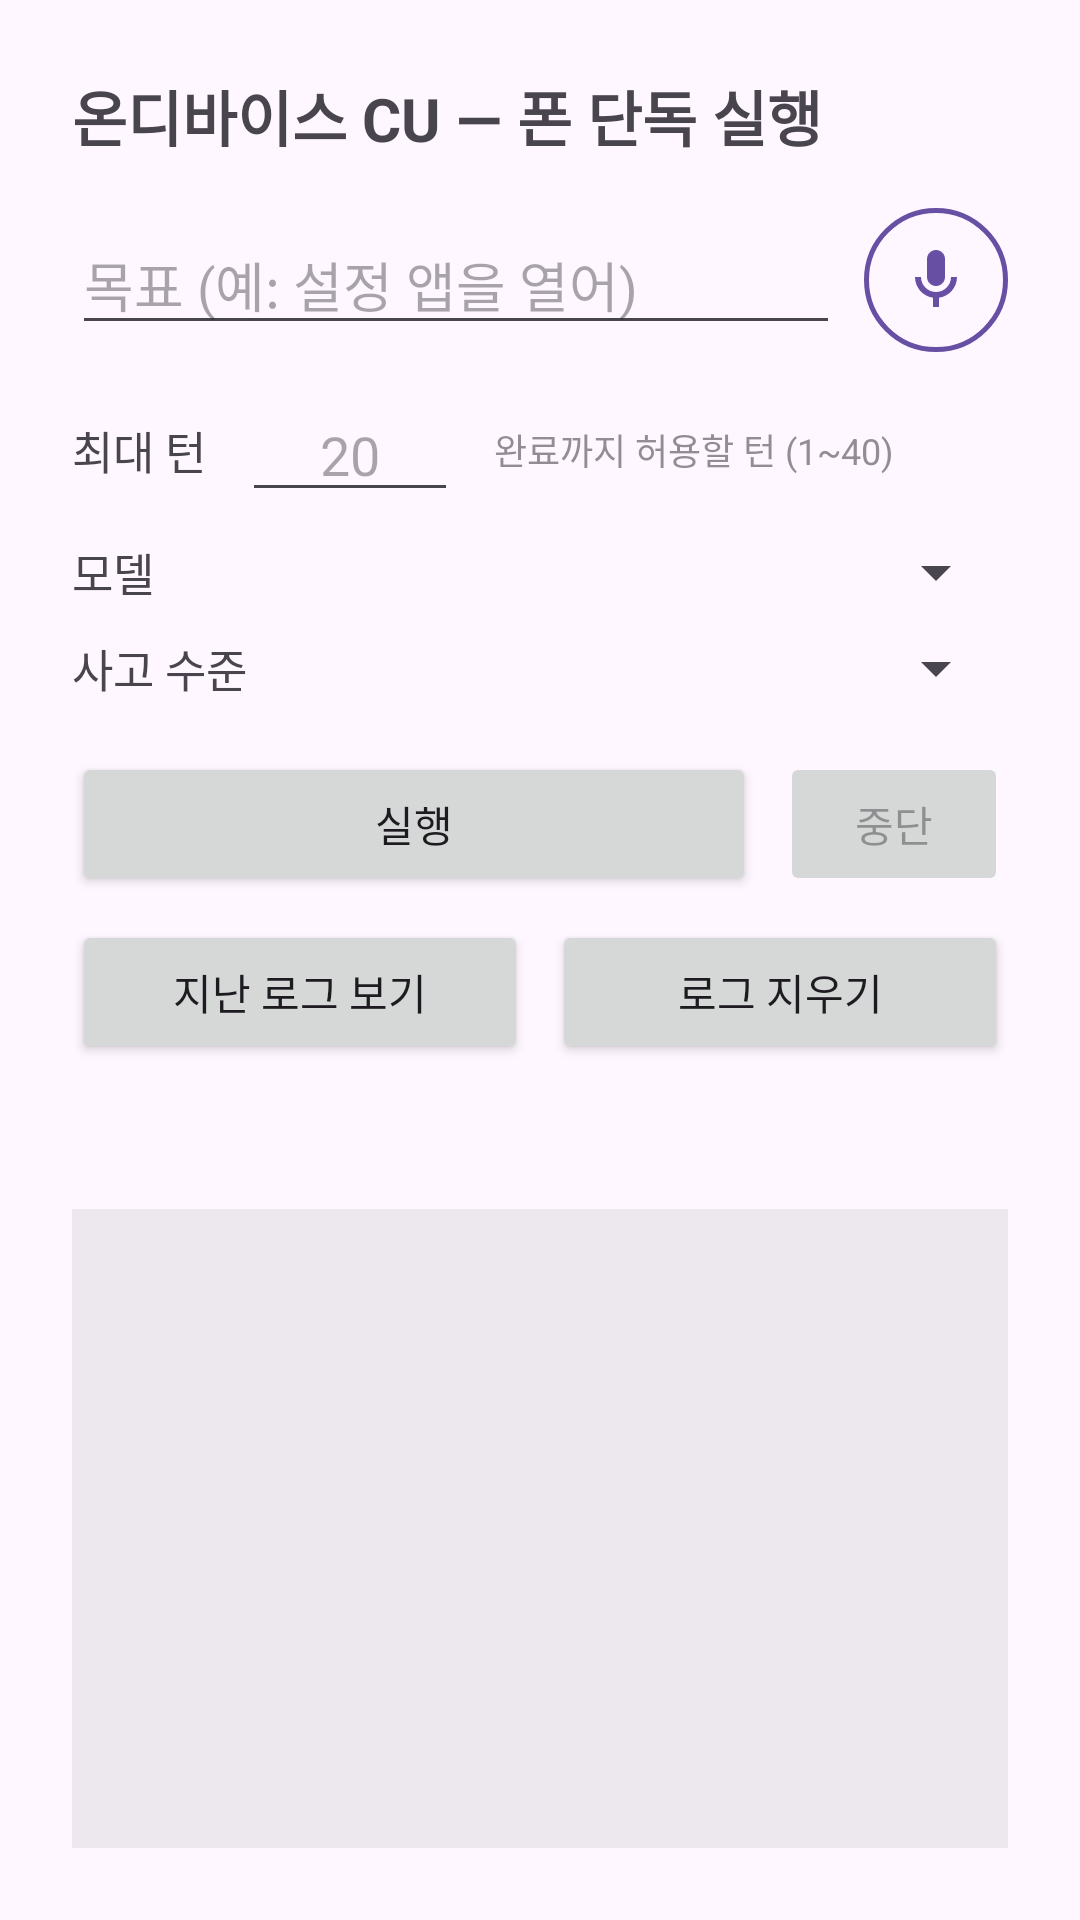

Where to tap for icons on this 1080px×1920px app screen, as (x,y):
음성으로 목표 말하기: (936,280)
